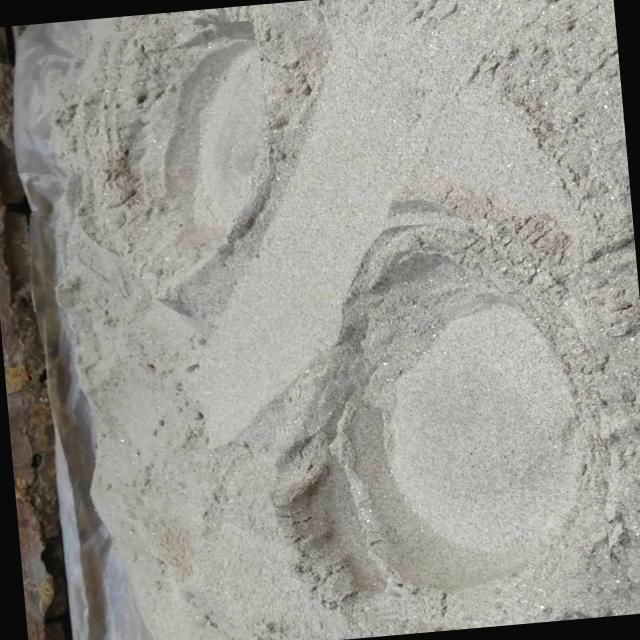C20: (279, 219, 607, 611), (108, 21, 270, 283)
